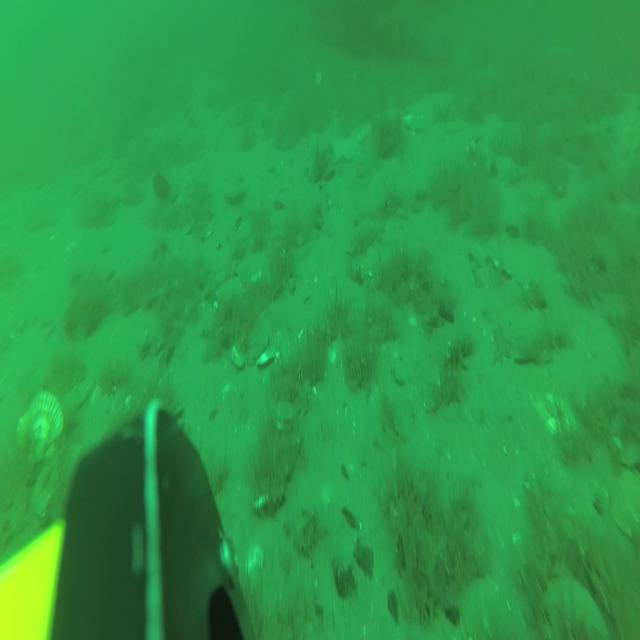scallop: (539, 571, 608, 640), (18, 392, 62, 459), (605, 462, 640, 542), (229, 322, 269, 367), (483, 152, 516, 182), (226, 181, 246, 203), (356, 120, 373, 141), (315, 72, 322, 89)
starfish: (330, 133, 361, 166)
